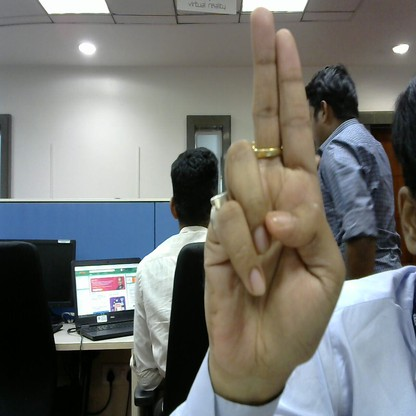u: (199, 6, 344, 360)
